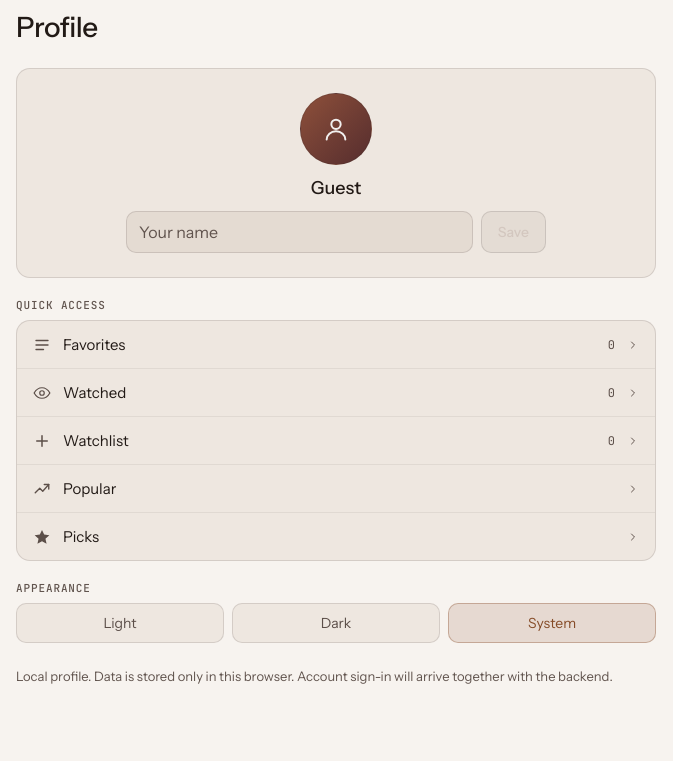
Profile › сабмит формы сохраняет имя и обновляет инициалы
Type "Oleg Denisov" into the field named "Display name" at (299, 232), box x1=126 y1=211 x2=473 y2=253
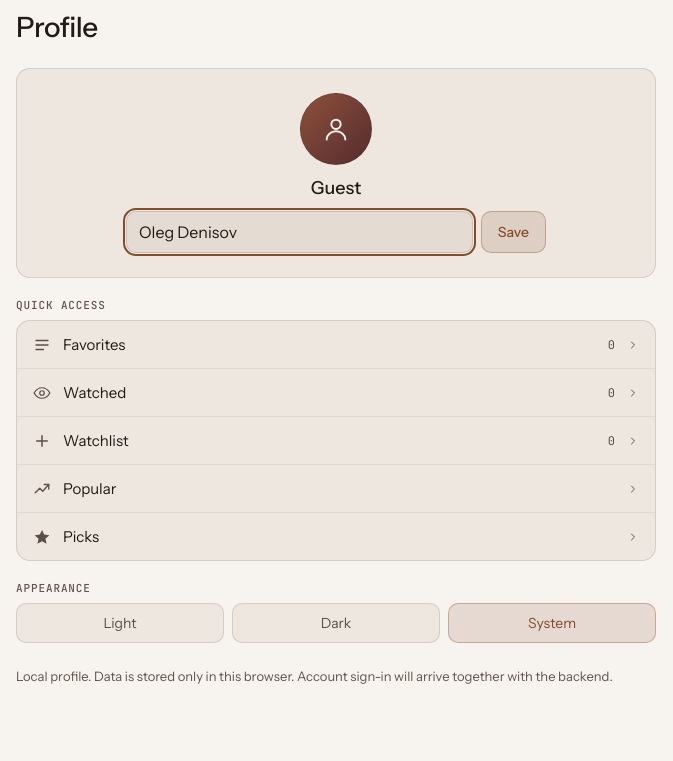
Click the button "Save" at (513, 232), box x1=481 y1=211 x2=546 y2=253
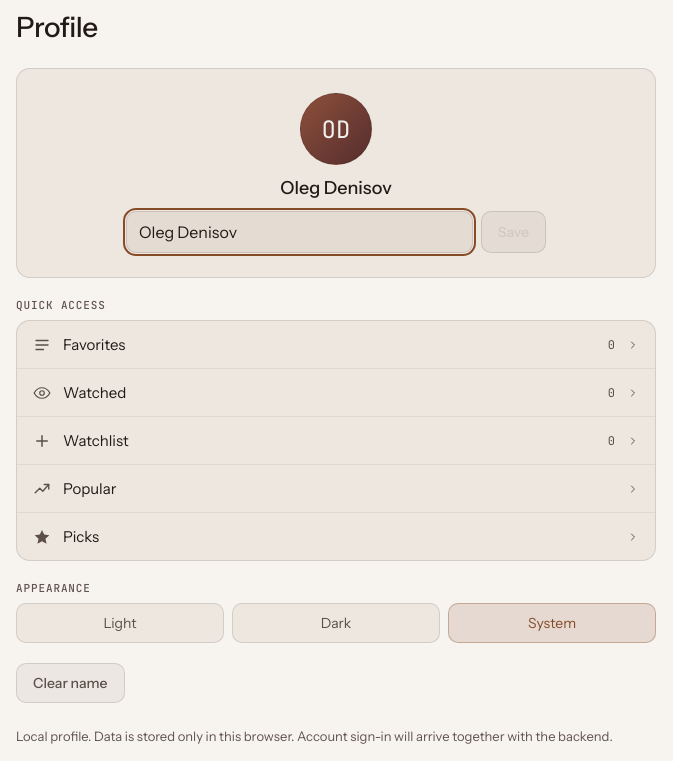
Check: the text "Oleg Denisov" is shown, box x1=280 y1=177 x2=392 y2=199
Check: the text "OD" is shown, box x1=300 y1=93 x2=372 y2=165
Check: the text "Guest" is gone
